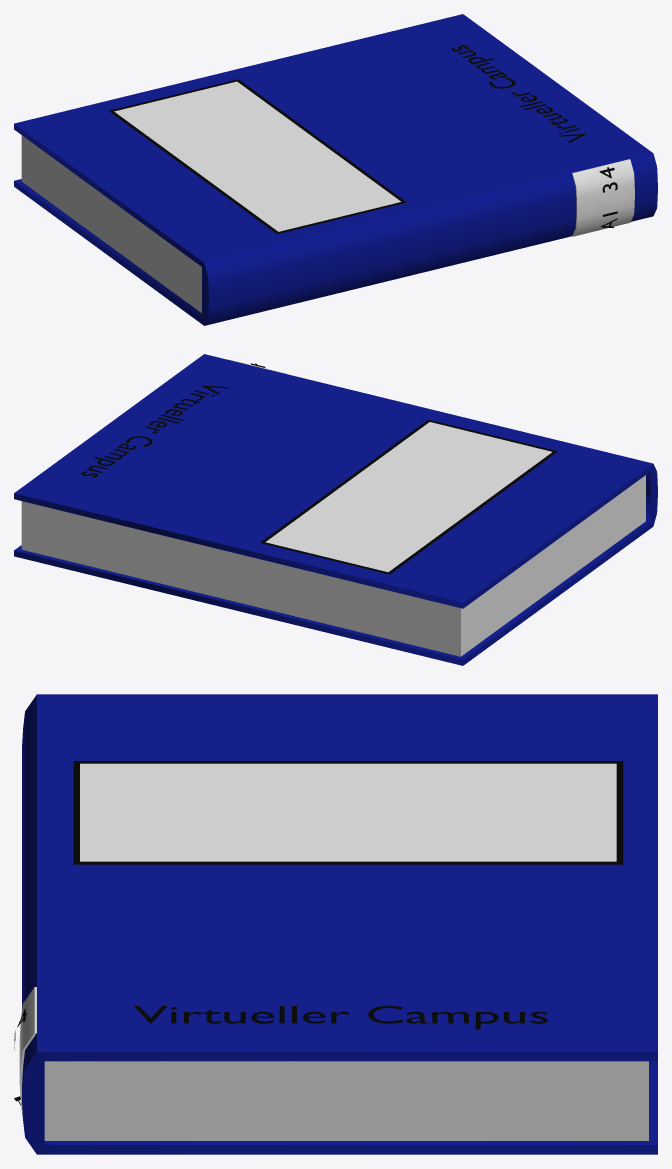
File: Book_Titellos.fbx
3 renders of one model, top to bottom at view 1: azimuth 30°, elevation 25°; view 2: azimuth 150°, elevation 25°; view 3: azimuth 270°, elevation 25°, orthographic. The views are drawn at different scales.
Parts seen in each view (by area): view 1: Cube; view 2: Cube; view 3: Cube.
Part boxes in pixels (x1=…): Cube: x1=14, y1=14, x2=657, y2=325; Cube: x1=14, y1=354, x2=657, y2=665; Cube: x1=14, y1=694, x2=657, y2=1154.
Bounding box in the file's own units: 200 × 27.58 × 152.
